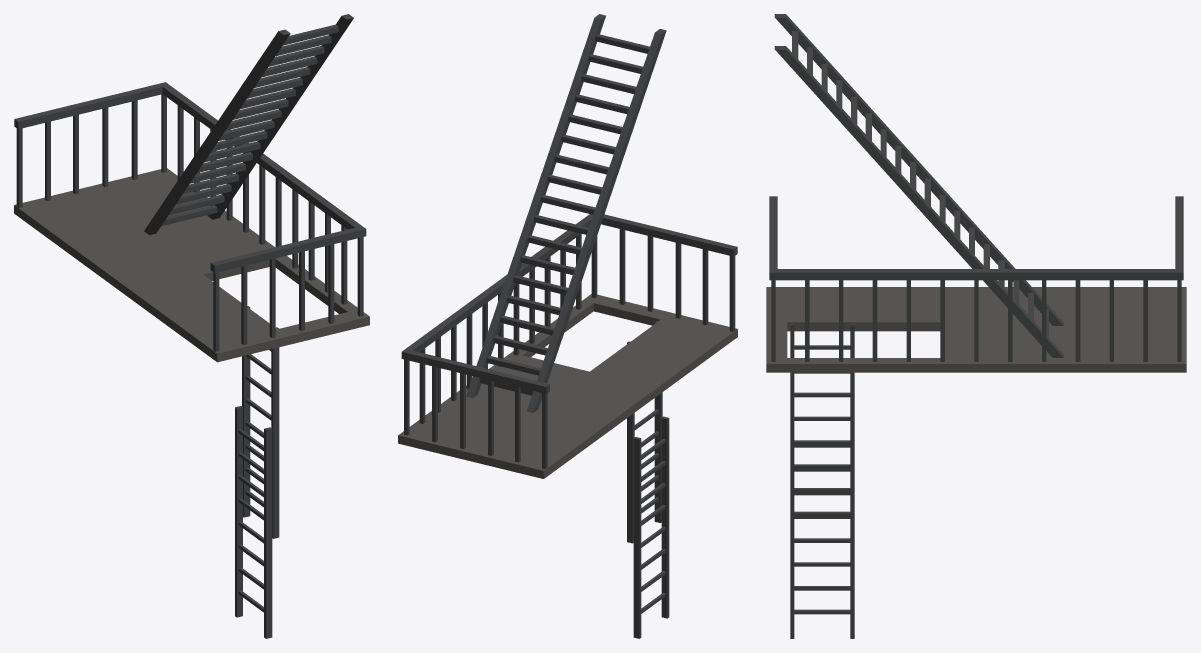
File: SM_Props_FireEscape_Base.fbx
3 renders of one model, left to right at view 1: azimuth 30°, elevation 25°; view 2: azimuth 150°, elevation 25°; view 3: azimuth 270°, elevation 25°, orthographic. The views are drawn at different scales.
Visible parts, largest first — view 1: SM_Props_FireEscape_Base; view 2: SM_Props_FireEscape_Base; view 3: SM_Props_FireEscape_Base.
Part boxes in pixels (x1,y1,x2,y2): SM_Props_FireEscape_Base: [14, 14, 369, 638]; SM_Props_FireEscape_Base: [398, 14, 737, 638]; SM_Props_FireEscape_Base: [766, 14, 1186, 638].
Bounding box in the file's own units: 131 × 494 × 300.
